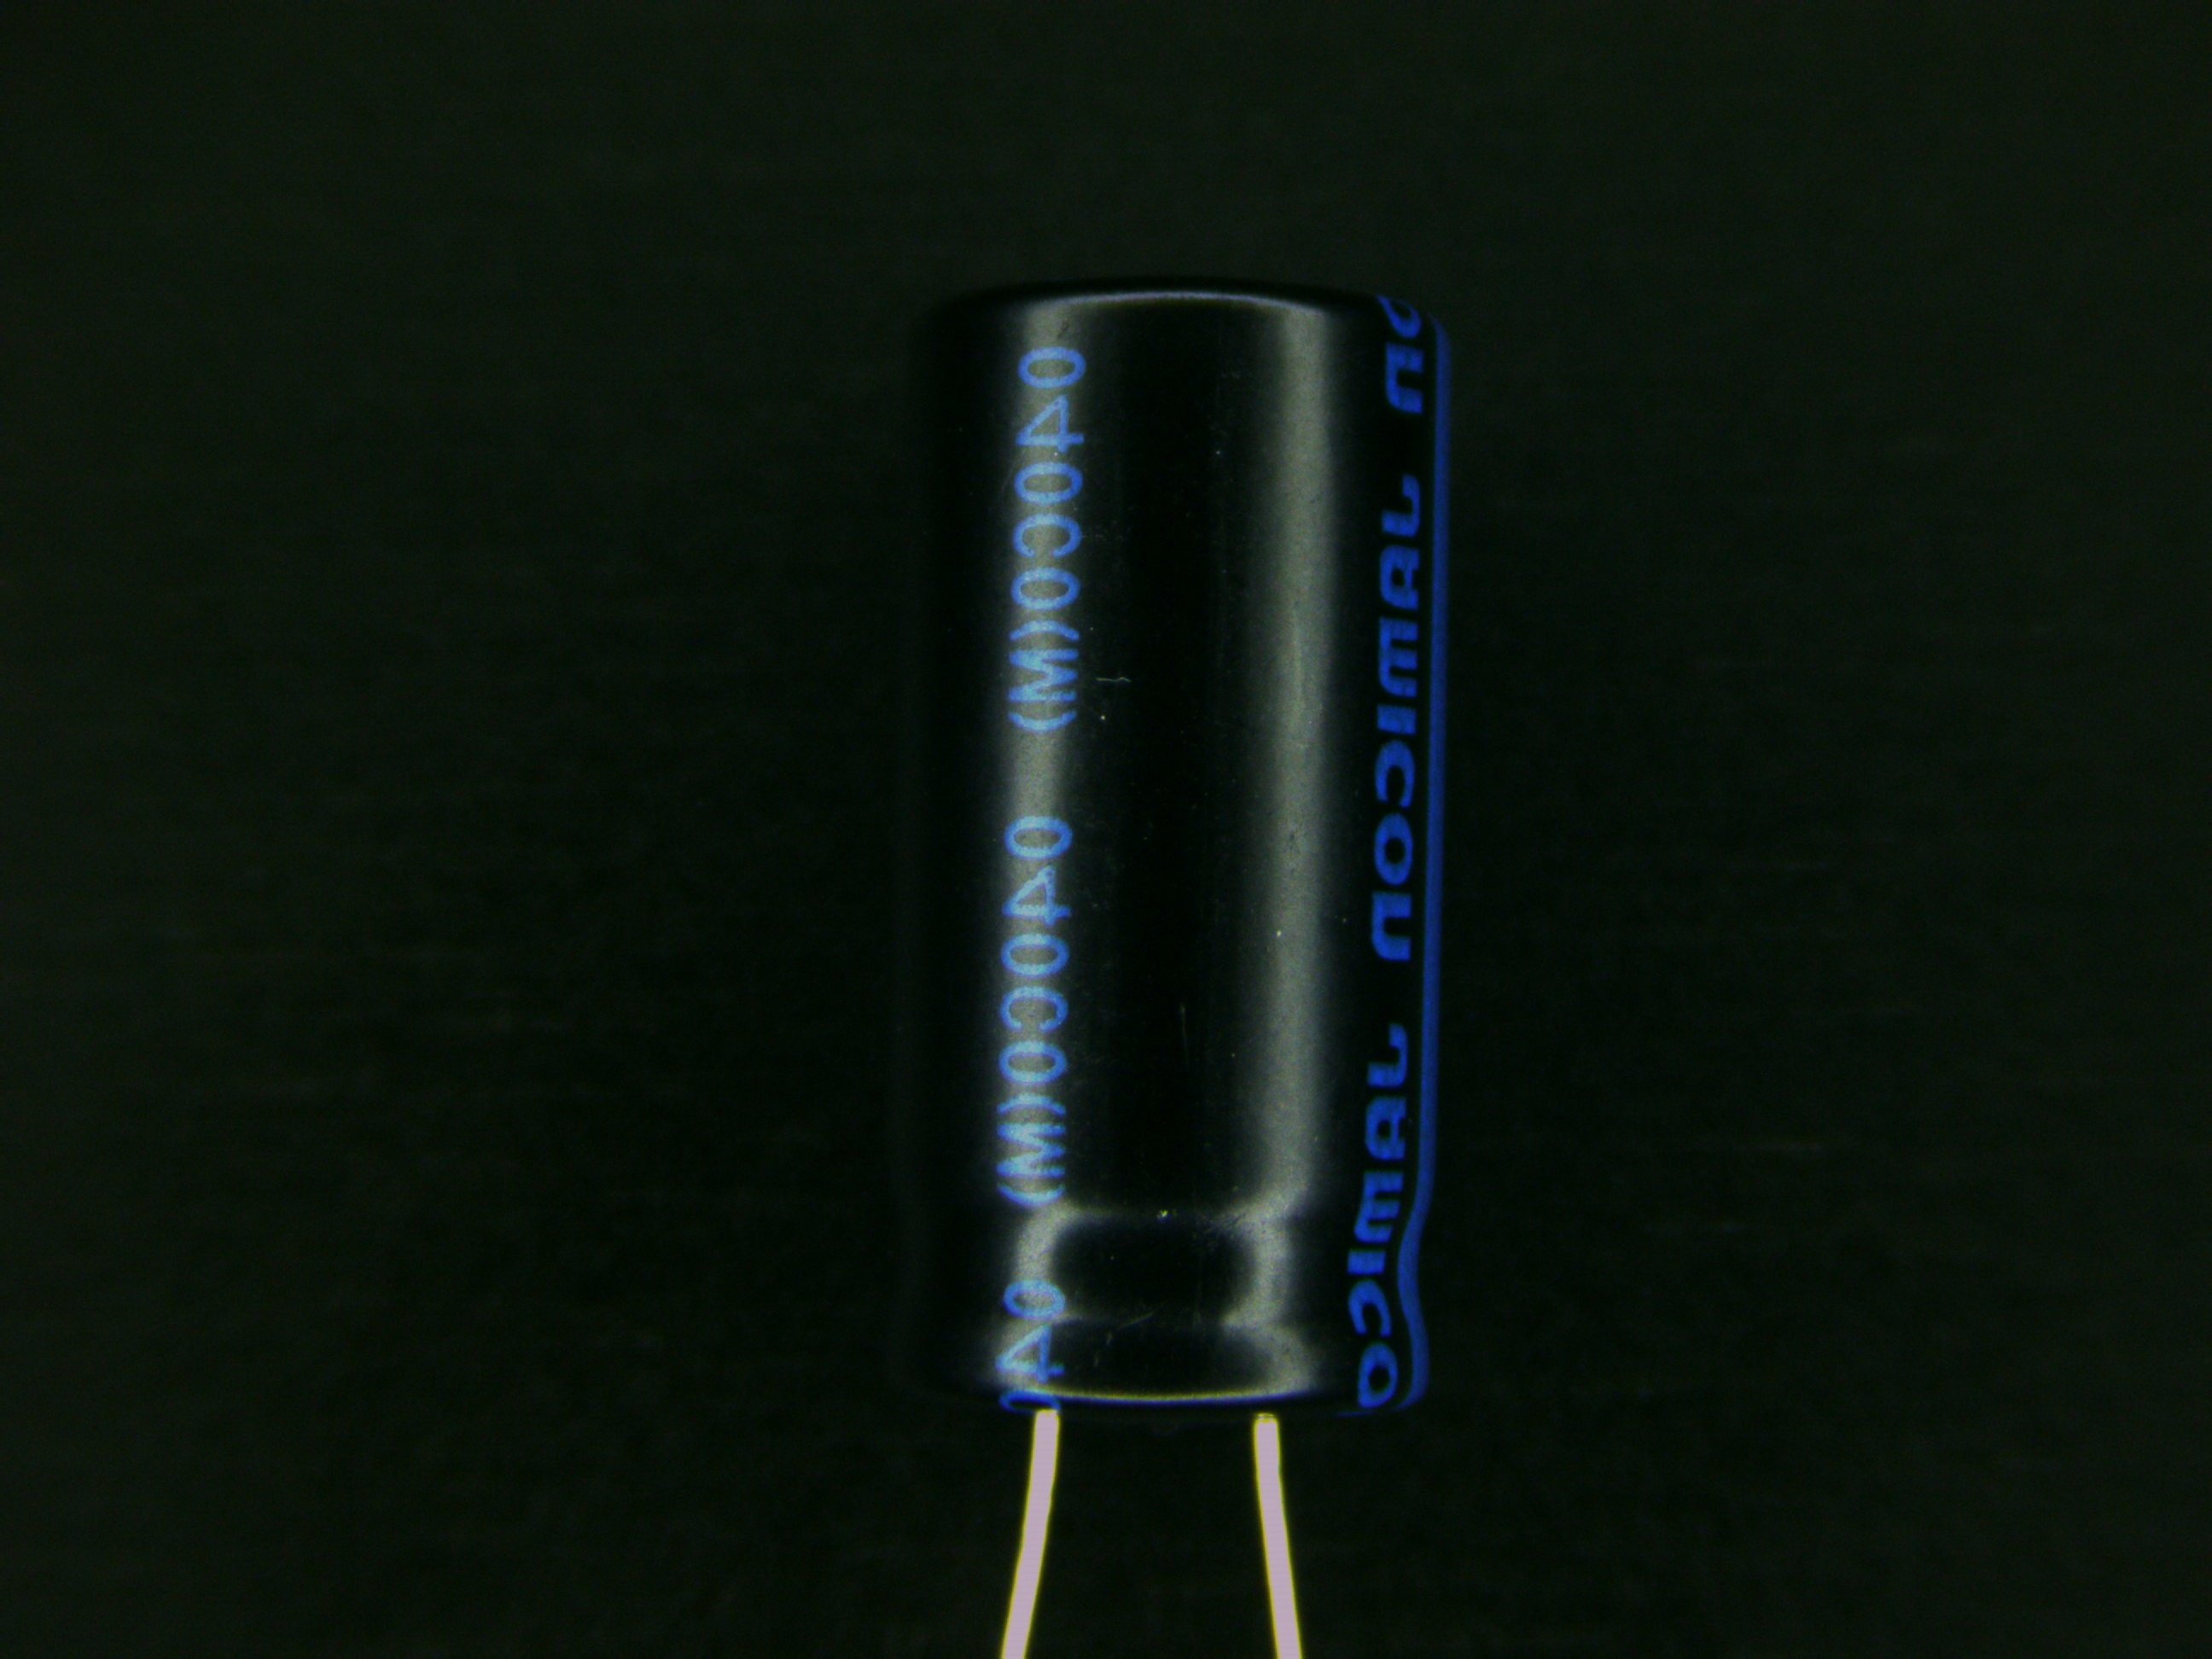c2: (883, 274, 1458, 1490)
